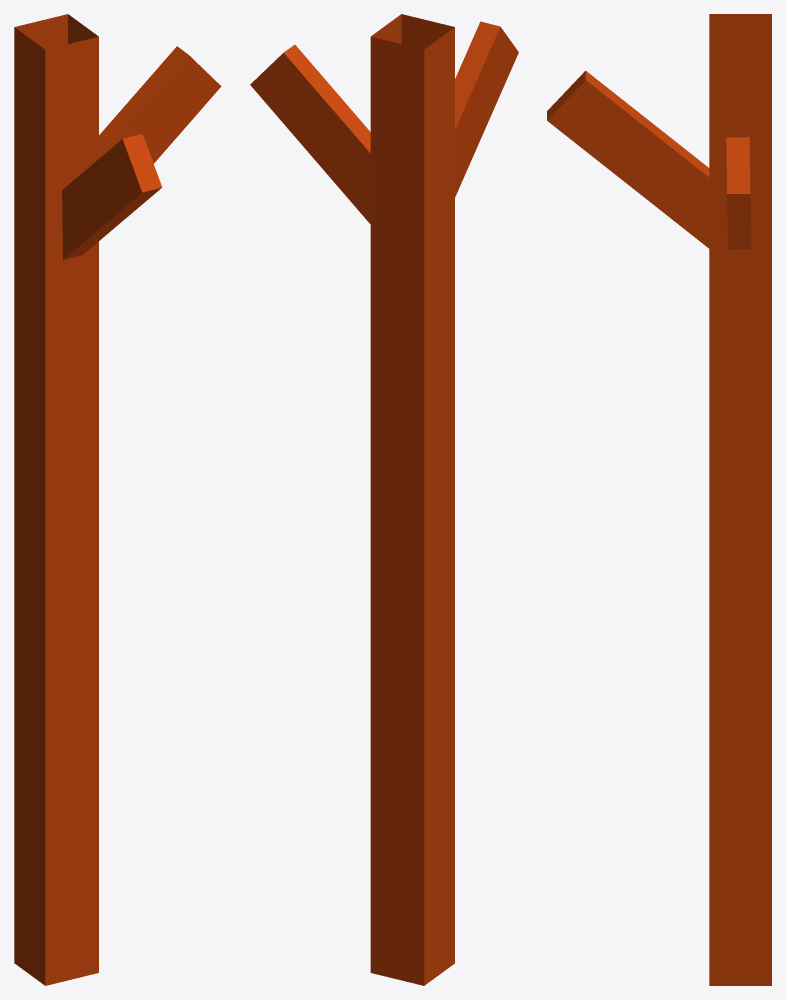
Rendered from support_beam.obj.
The picture shows the model from 3 angles, left to right: view 1: azimuth 30°, elevation 25°; view 2: azimuth 150°, elevation 25°; view 3: azimuth 270°, elevation 25°; orthographic projection.
Visible parts, largest first — view 1: Wood.001; view 2: Wood.001; view 3: Wood.001.
Part boxes in pixels (box(x1,y1,x2,y2)): Wood.001: box(14, 14, 221, 985); Wood.001: box(250, 14, 518, 985); Wood.001: box(547, 14, 771, 985).
Size of the model in its own units: 0.9542 by 4.62 by 0.9956.
